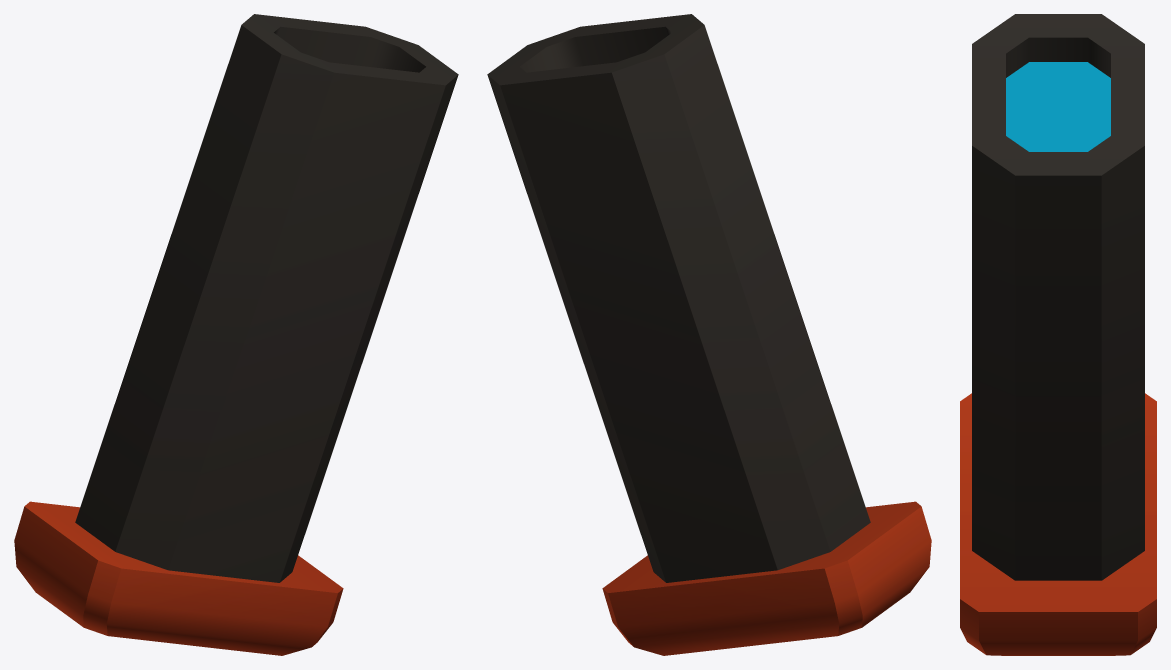
The model's file is Pistol3_Magazine.fbx.
3 views of the same model, side by side, from view 1: azimuth 30°, elevation 25°; view 2: azimuth 150°, elevation 25°; view 3: azimuth 270°, elevation 25° (orthographic). The views are drawn at different scales.
Parts seen in each view (by area): view 1: Pistol3_Magazine; view 2: Pistol3_Magazine; view 3: Pistol3_Magazine.
Boxes of the visible parts, left/top/right/bottom form: Pistol3_Magazine: left=14, top=14, right=458, bottom=655; Pistol3_Magazine: left=487, top=14, right=931, bottom=655; Pistol3_Magazine: left=960, top=14, right=1156, bottom=655.
Size of the model in its own units: 7.65 by 11.18 by 3.11.
